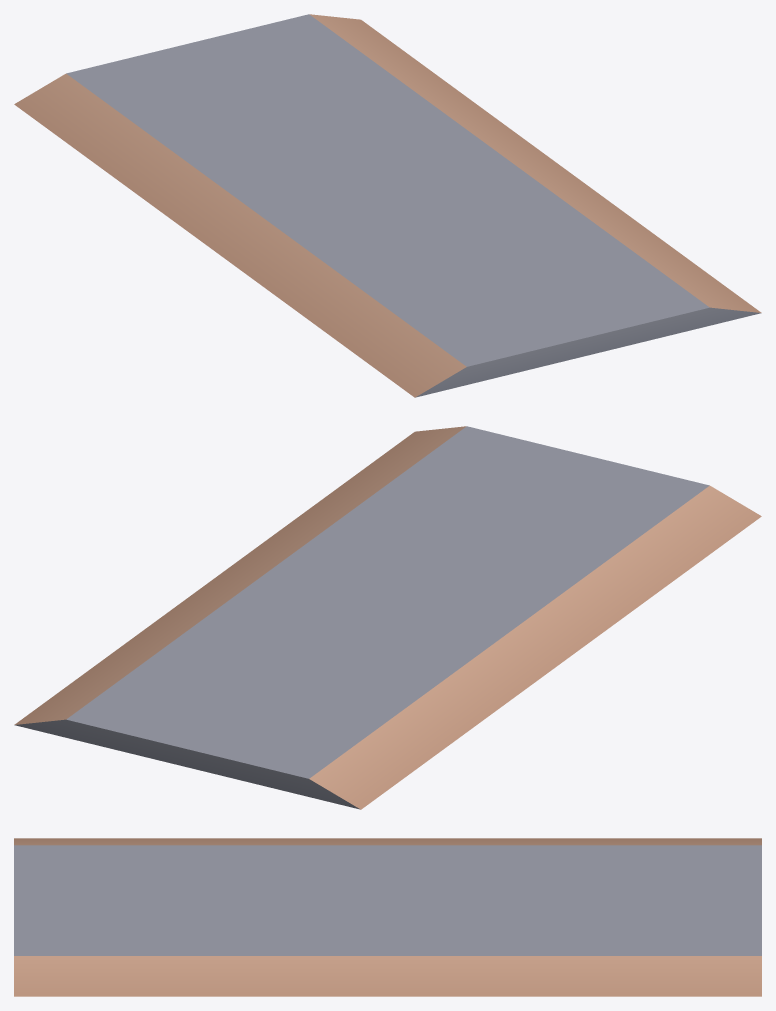
The model's file is path-long.glb.
3 views of the same model, one above another, from view 1: azimuth 30°, elevation 25°; view 2: azimuth 150°, elevation 25°; view 3: azimuth 270°, elevation 25° (orthographic). The views are drawn at different scales.
Visible parts, largest first — view 1: path-long; view 2: path-long; view 3: path-long.
Boxes of the visible parts, box(x1,y1,x2,y2) form: path-long: box(14, 14, 761, 397); path-long: box(14, 426, 761, 809); path-long: box(14, 838, 761, 996).
Bounding box in the file's own units: 0.2 × 0.01 × 0.4.
